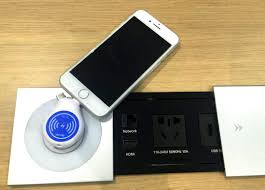mobil: (57, 9, 180, 118)
